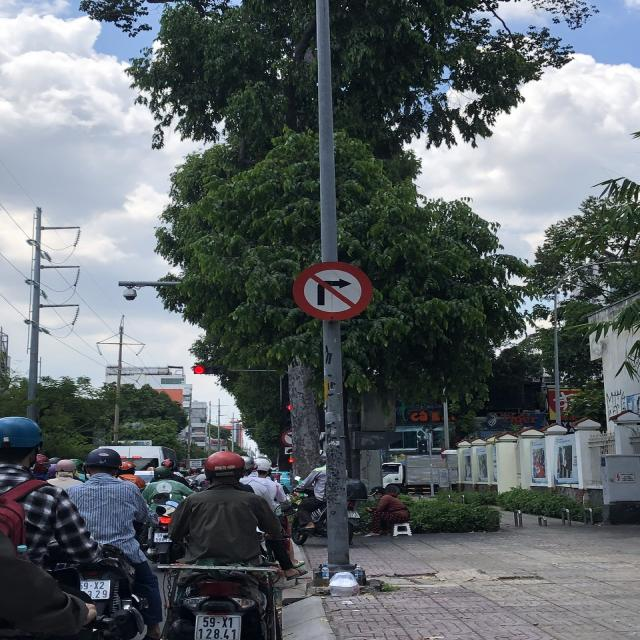Bien bao cam re phai: (287, 255, 377, 324)
